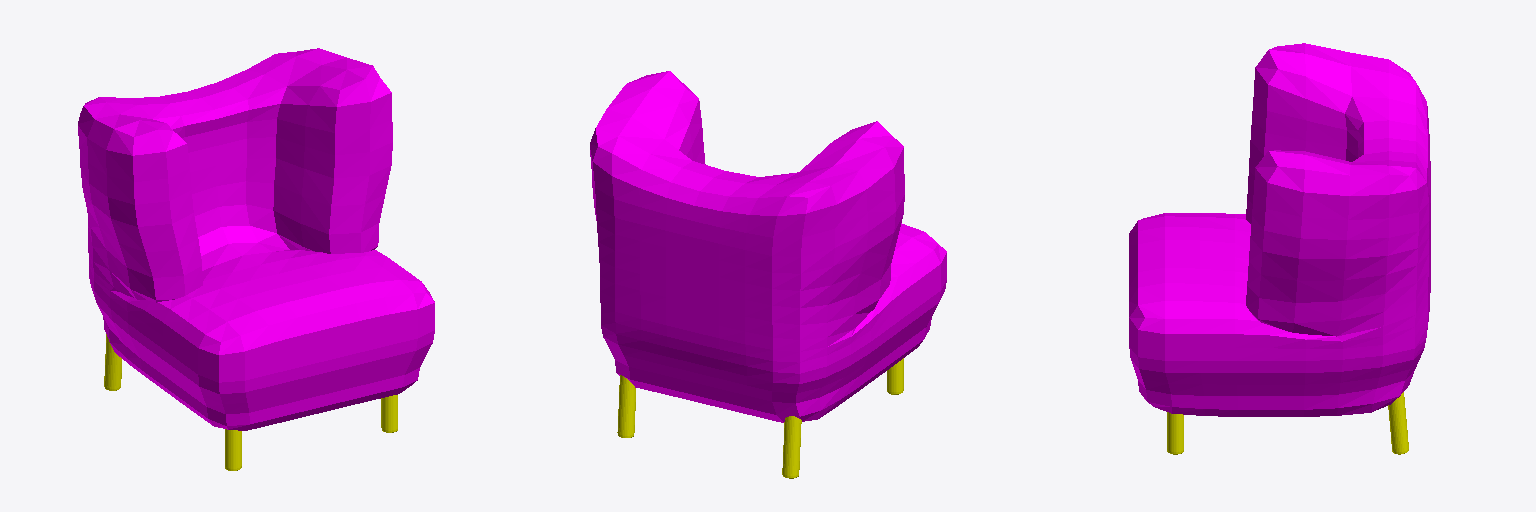
The model's file is Chair.obj.
3 views of the same model, side by side, from view 1: azimuth 30°, elevation 25°; view 2: azimuth 150°, elevation 25°; view 3: azimuth 270°, elevation 25° (orthographic).
Parts seen in each view (by area): view 1: pCube2; view 2: pCube2; view 3: pCube2.
Boxes of the visible parts, <box> form: pCube2: <box>78,48,434,470</box>; pCube2: <box>590,71,946,478</box>; pCube2: <box>1129,43,1430,454</box>.
Size of the model in its own units: 5.48 by 5.91 by 5.18.